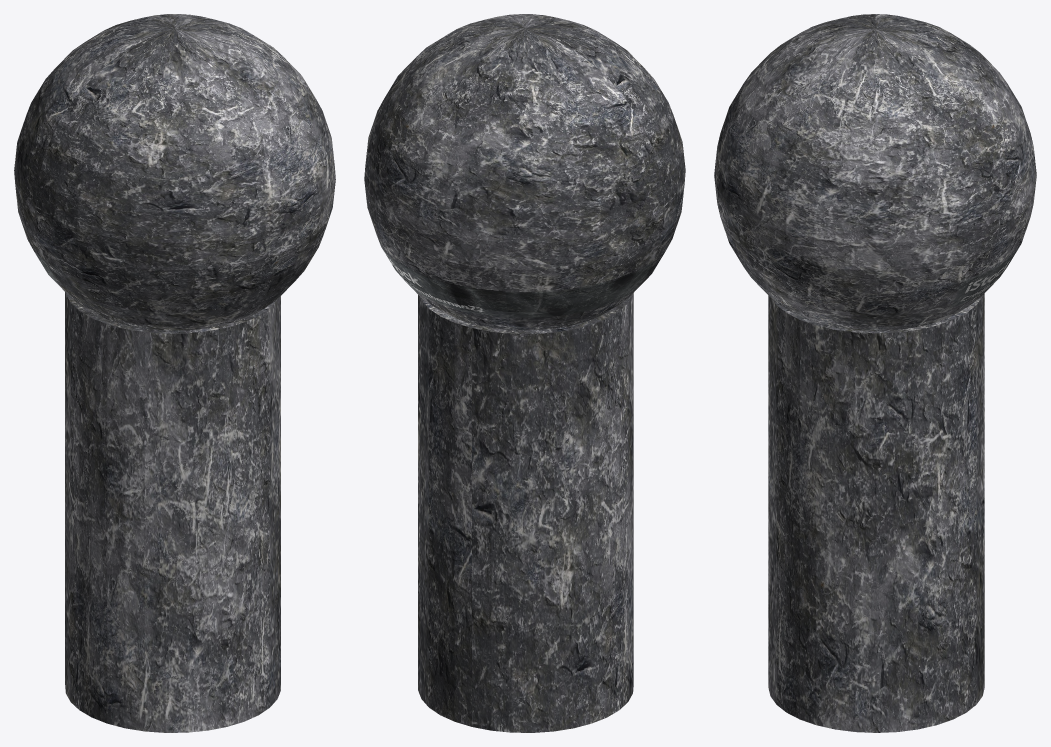
The model's file is decoration1.fbx.
3 views of the same model, side by side, from view 1: azimuth 30°, elevation 25°; view 2: azimuth 150°, elevation 25°; view 3: azimuth 270°, elevation 25° (orthographic).
Visible parts, largest first — view 1: Cylinder; view 2: Cylinder; view 3: Cylinder.
Part boxes in pixels (box(x1,y1,x2,y2)): Cylinder: box(14, 14, 335, 732); Cylinder: box(364, 14, 685, 732); Cylinder: box(714, 14, 1036, 732).
Bounding box in the file's own units: 51.83 × 117 × 51.83.
1 material, 1 textured.
